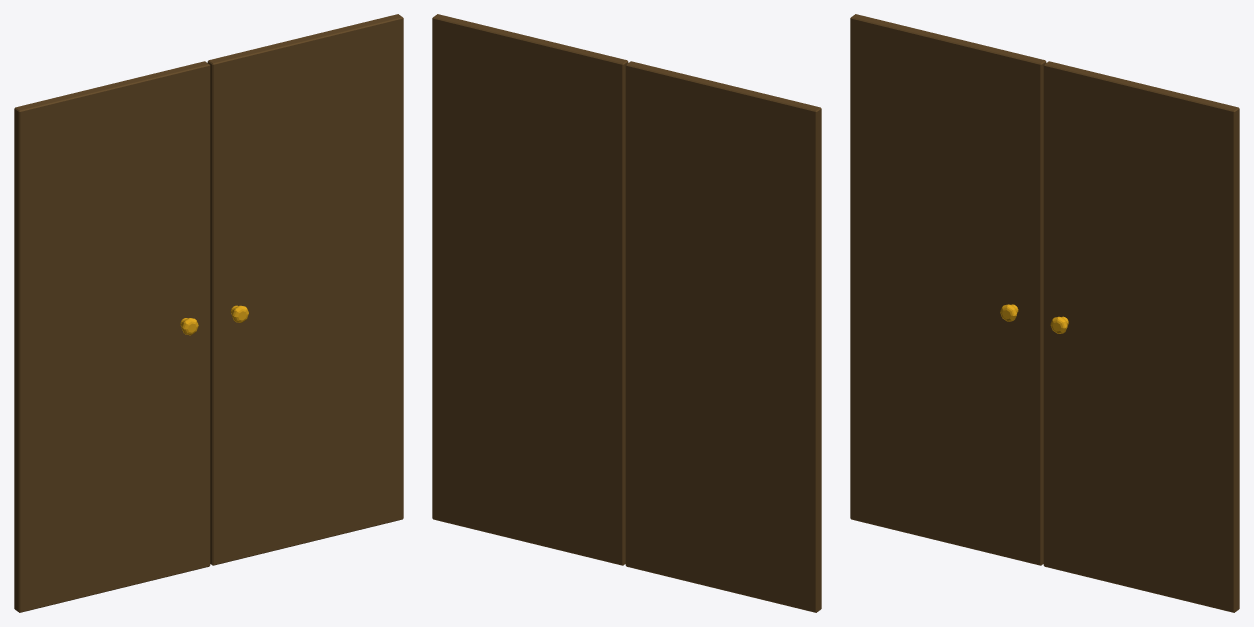
File: Armario Cozinha Portas.fbx
The picture shows the model from 3 angles, left to right: view 1: azimuth 30°, elevation 25°; view 2: azimuth 150°, elevation 25°; view 3: azimuth 330°, elevation 25°; orthographic projection.
Visible parts, largest first — view 1: Portas.002, Portas.003; view 2: Portas.002, Portas.003; view 3: Portas.003, Portas.002.
Boxes of the visible parts, x1,y1,x2,y2 form: Portas.002: (14,61,210,612); Portas.003: (207,14,403,565); Portas.002: (625,61,821,612); Portas.003: (432,14,628,565); Portas.003: (1043,61,1239,612); Portas.002: (850,14,1046,565).
Size of the model in its own units: 82.35 by 103 by 5.01.
